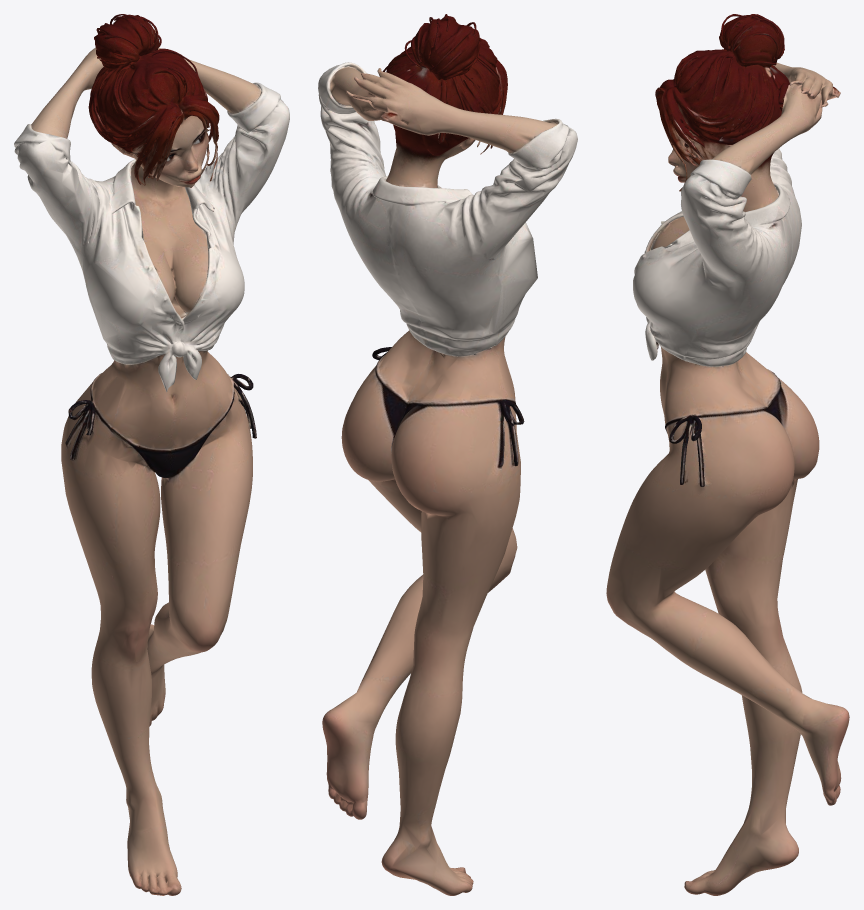
The model's file is bikini-woman.glb.
3 renders of one model, left to right at view 1: azimuth 30°, elevation 25°; view 2: azimuth 150°, elevation 25°; view 3: azimuth 270°, elevation 25°, orthographic. The views are drawn at different scales.
Parts seen in each view (by area): view 1: Object_8, Object_9, Object_10, Object_7, Object_5, Object_6, Object_4, Object_11; view 2: Object_8, Object_7, Object_9, Object_10, Object_4, Object_5, Object_6, Object_11; view 3: Object_7, Object_8, Object_4, Object_10, Object_11, Object_5, Object_9, Object_6.
Boxes of the visible parts, x1=… form: Object_8: x1=56, y1=14, x2=247, y2=895; Object_9: x1=42, y1=16, x2=189, y2=887; Object_10: x1=14, y1=14, x2=233, y2=893; Object_7: x1=14, y1=58, x2=289, y2=712; Object_5: x1=103, y1=15, x2=221, y2=895; Object_6: x1=88, y1=16, x2=177, y2=470; Object_4: x1=129, y1=29, x2=288, y2=726; Object_11: x1=147, y1=29, x2=241, y2=873; Object_8: x1=323, y1=16, x2=520, y2=895; Object_7: x1=320, y1=64, x2=577, y2=793; Object_9: x1=411, y1=19, x2=542, y2=892; Object_10: x1=362, y1=19, x2=577, y2=885; Object_4: x1=318, y1=48, x2=431, y2=819; Object_5: x1=368, y1=14, x2=480, y2=895; Object_6: x1=429, y1=19, x2=526, y2=352; Object_11: x1=337, y1=45, x2=441, y2=868; Object_7: x1=620, y1=116, x2=846, y2=801; Object_8: x1=606, y1=14, x2=849, y2=888; Object_4: x1=648, y1=73, x2=848, y2=805; Object_10: x1=607, y1=15, x2=839, y2=895; Object_11: x1=621, y1=53, x2=840, y2=895; Object_5: x1=637, y1=15, x2=821, y2=894; Object_9: x1=646, y1=14, x2=816, y2=572; Object_6: x1=644, y1=14, x2=783, y2=252.
Size of the model in its own units: 0.5275 by 1.71 by 0.4339.
1 material, 1 textured.
